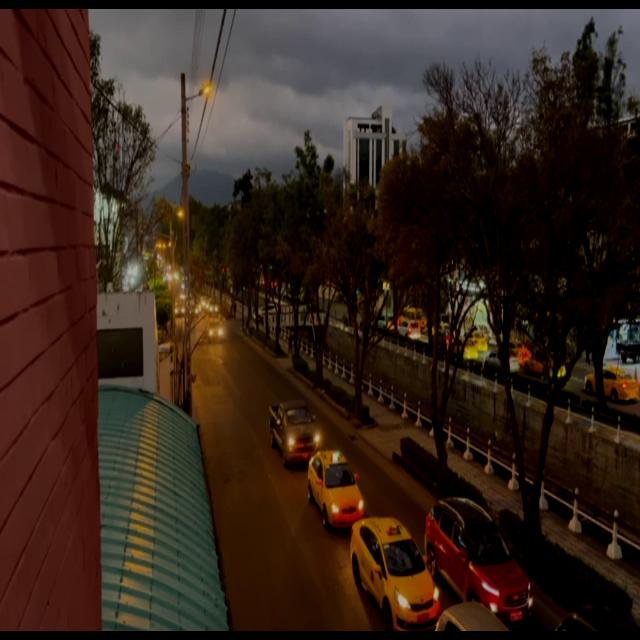CMT: (270, 399, 320, 464)
SED: (351, 523, 433, 632), (313, 457, 366, 527)
SUV: (435, 504, 533, 625)
